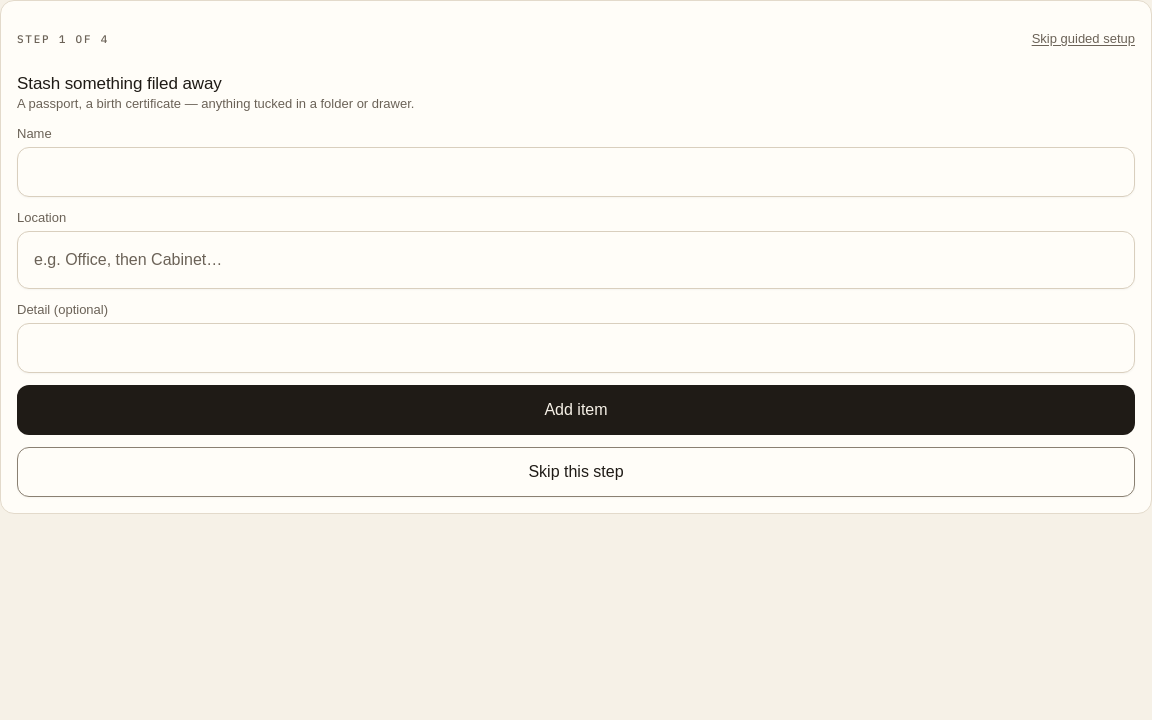
skipping a step advances to the next one without writing anything
The width and height of the screenshot is (1152, 720).
Click the button "Skip this step" at (576, 472), box x1=17 y1=447 x2=1135 y2=497
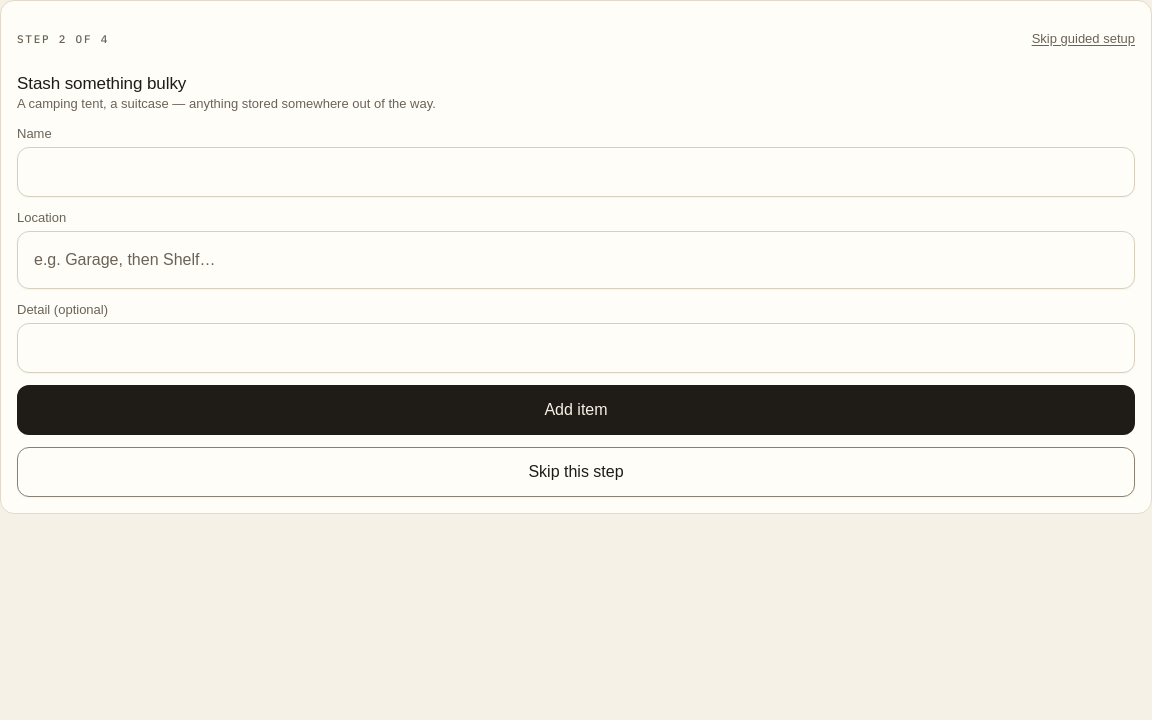
Check: the text "Step 2 of 4" is shown, box x1=17 y1=32 x2=109 y2=46
Check: the heading "Stash something bulky" is shown, box x1=17 y1=74 x2=186 y2=93
